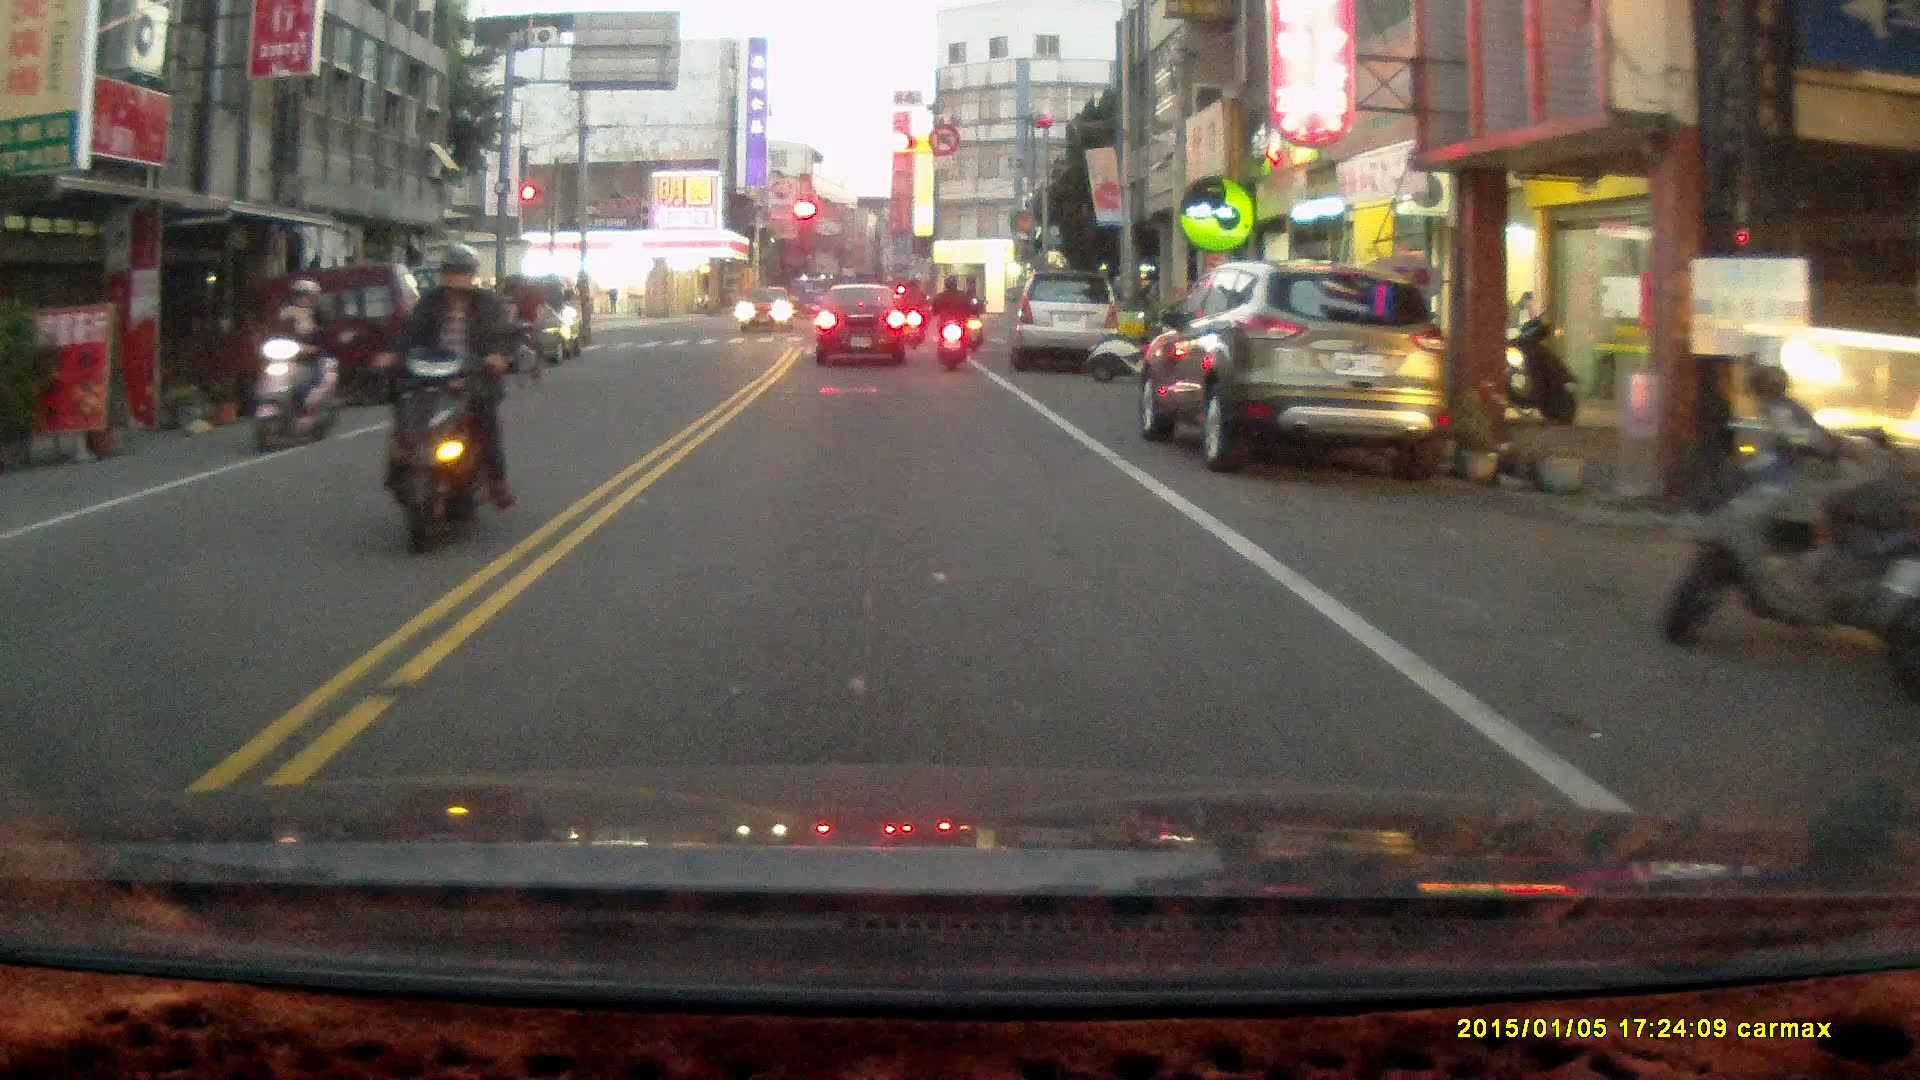rider: (367, 238, 518, 551), (248, 278, 342, 452), (499, 268, 542, 391), (925, 268, 972, 370), (896, 270, 929, 344), (958, 277, 985, 349)
vehicle: (1145, 258, 1444, 479), (190, 263, 437, 413), (1012, 271, 1123, 373), (816, 281, 912, 361), (730, 276, 792, 330)
